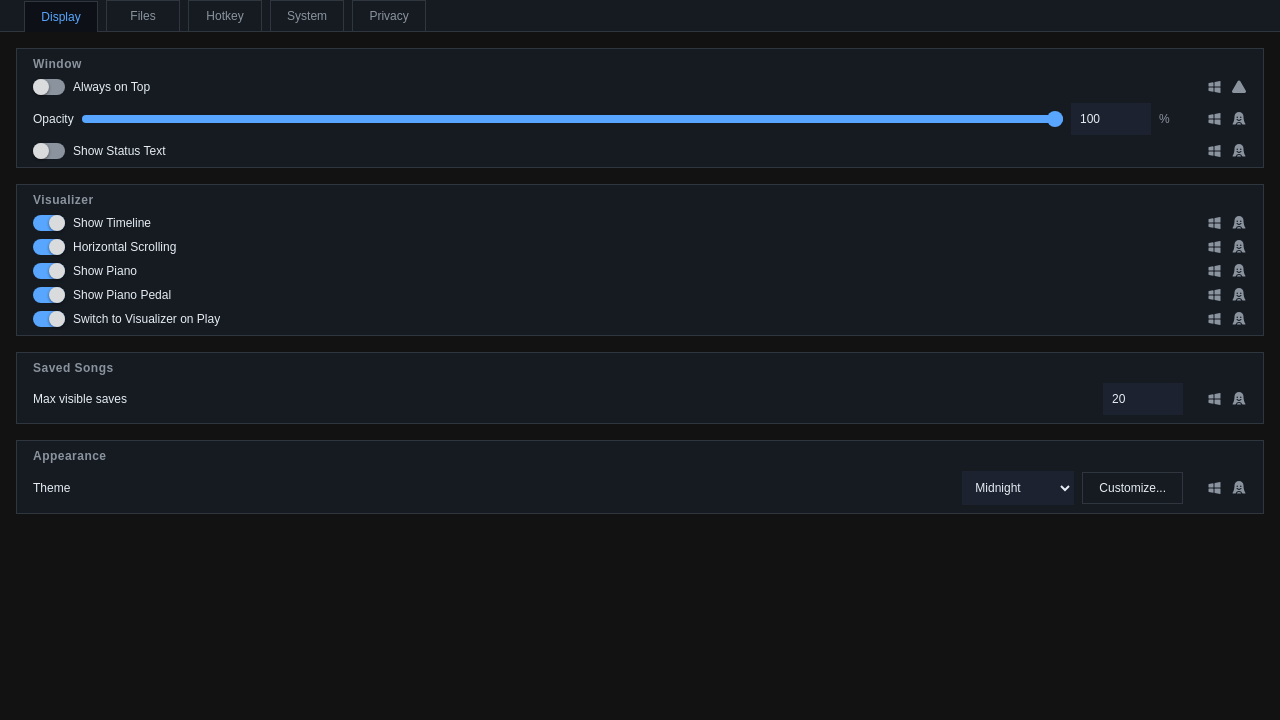
Test case: SettingsTab > Display page › the Customize button still opens the theme editor
This screenshot has width=1280, height=720.
Click the button "Customize..." at point(1133, 488), box [1082, 472, 1183, 504]
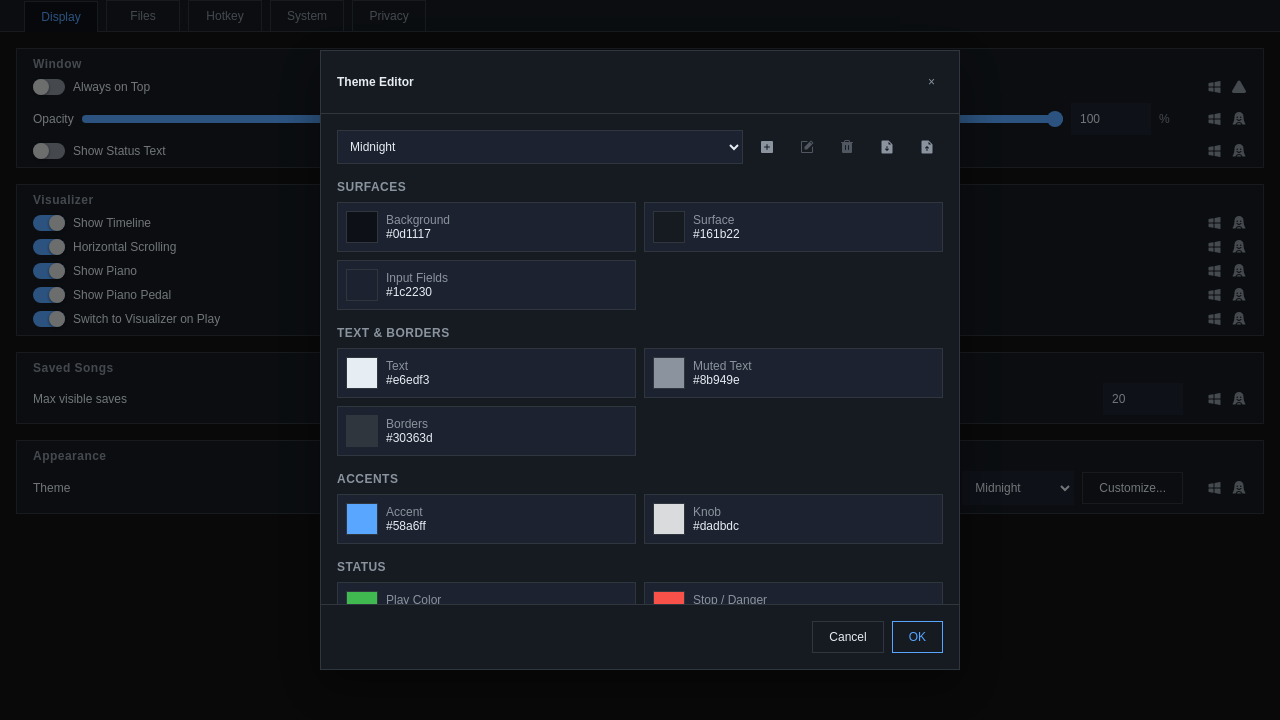
Result: the text "Theme Editor" is shown at [337, 75, 414, 89]
